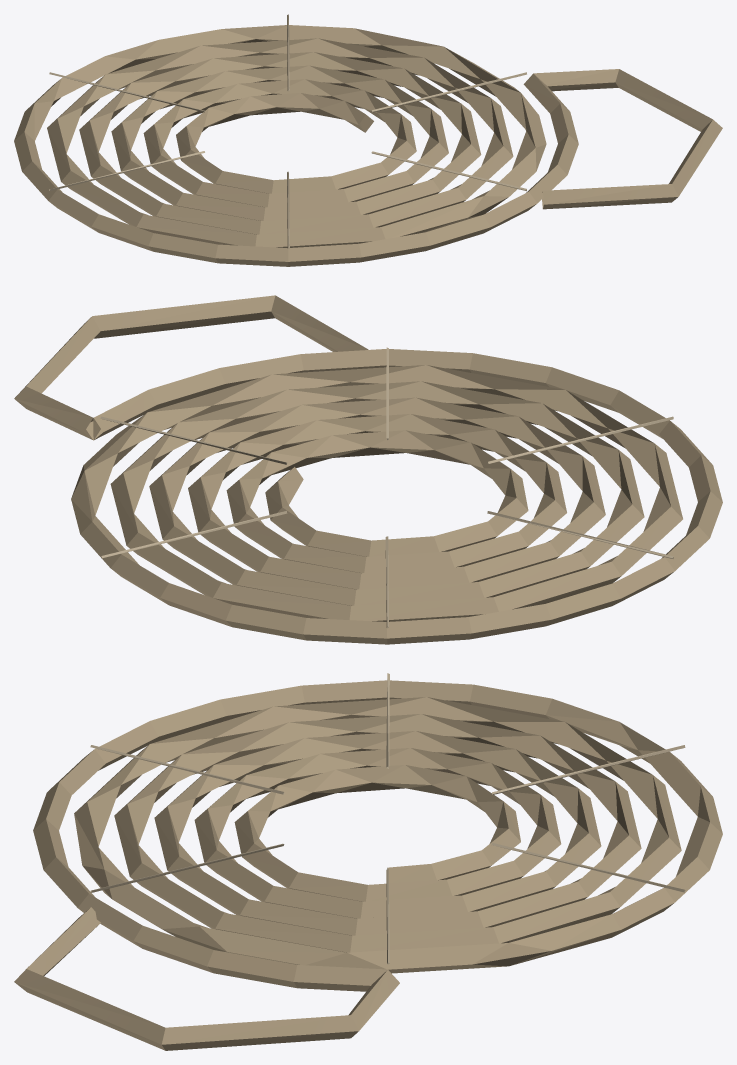
Rendered from rope_coil.glb.
3 views of the same model, one above another, from view 1: azimuth 30°, elevation 25°; view 2: azimuth 150°, elevation 25°; view 3: azimuth 270°, elevation 25° (orthographic). The views are drawn at different scales.
Parts seen in each view (by area): view 1: rope_coil; view 2: rope_coil; view 3: rope_coil.
Part boxes in pixels (<box>): rope_coil: <box>14,14,722,266</box>; rope_coil: <box>14,295,722,644</box>; rope_coil: <box>14,673,722,1050</box>.
Size of the model in its own units: 0.9056 by 0.037 by 0.7652.
